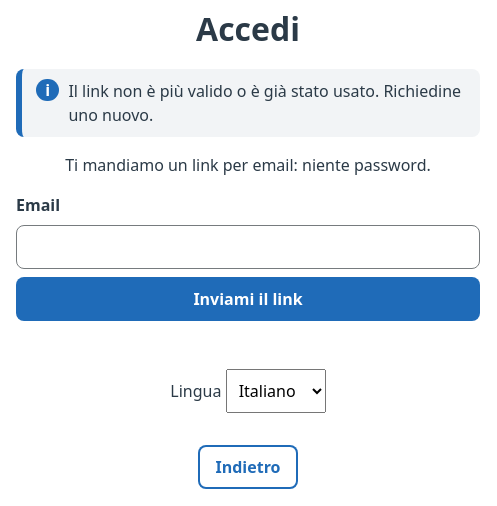
it: an expired or already used sign-in link says so and offers a new one
Expected: the message shows "Il link non è più valido o è già stato usato", x1=68 y1=80 x2=461 y2=126
Type "luca@example.test" into the field labelled "Email".
click(248, 247); type("luca@example.test")  # box x1=16 y1=225 x2=480 y2=269
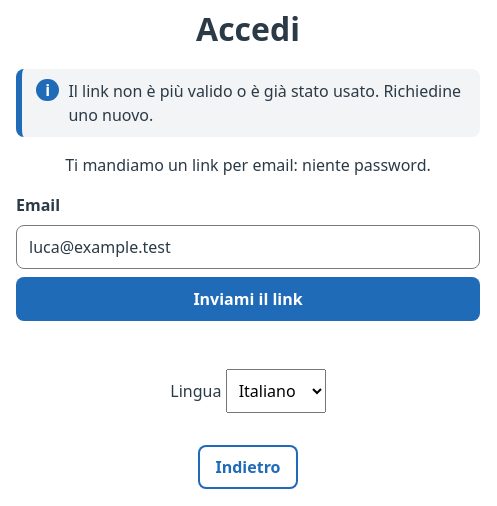
Click the button "Inviami il link".
click(248, 299)  # box x1=16 y1=277 x2=480 y2=321
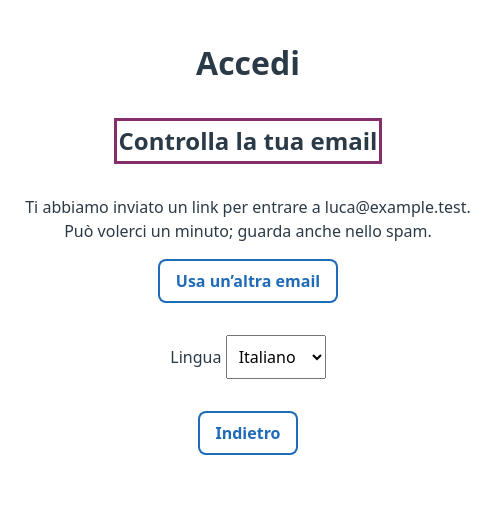
Result: the heading "Controlla la tua email" is shown at x1=119 y1=123 x2=377 y2=159
